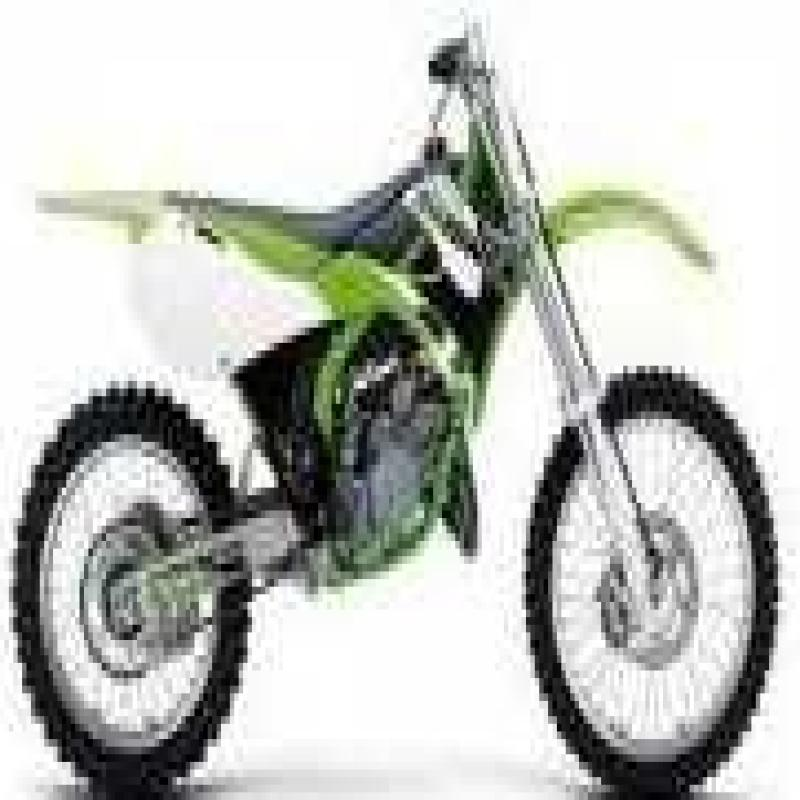bike: (38, 0, 800, 771)
